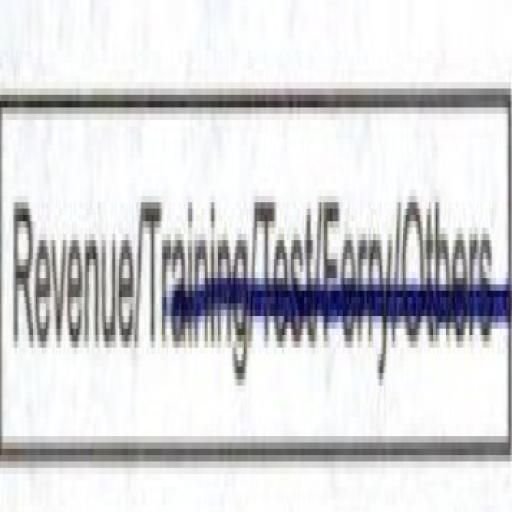check: (0, 19, 138, 512)
